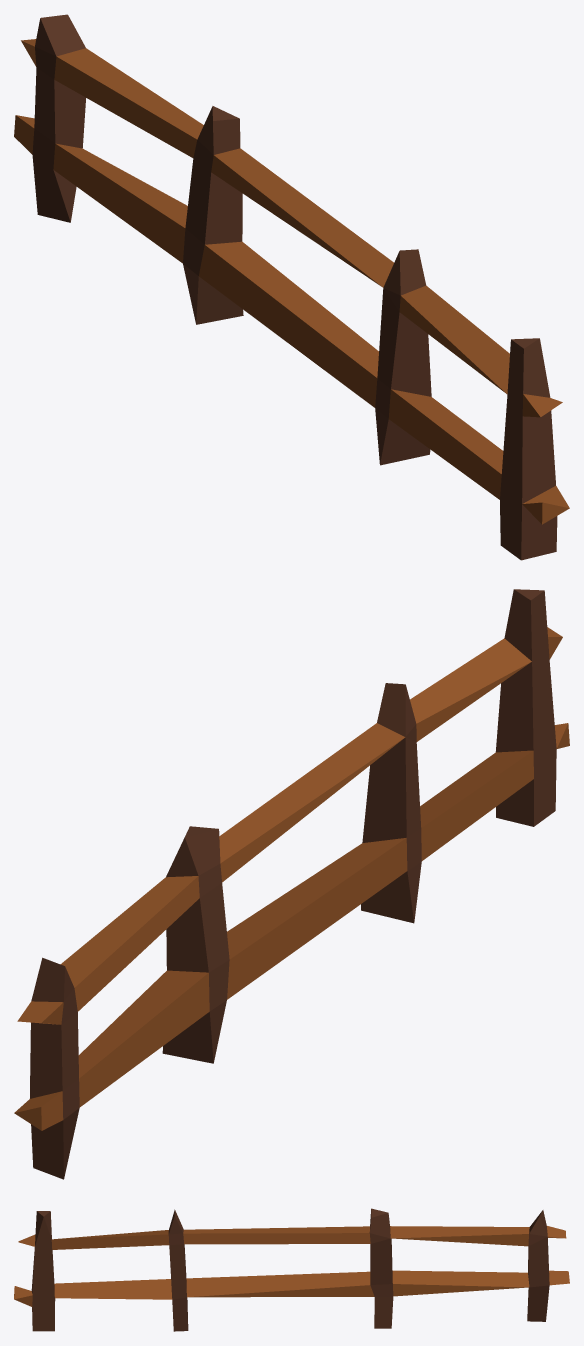
Rendered from cit1.fbx.
3 views of the same model, one above another, from view 1: azimuth 30°, elevation 25°; view 2: azimuth 150°, elevation 25°; view 3: azimuth 270°, elevation 25° (orthographic). The views are drawn at different scales.
Parts seen in each view (by area): view 1: Cube; view 2: Cube; view 3: Cube.
Part boxes in pixels (bbox=[...]): Cube: bbox=[14, 14, 569, 560]; Cube: bbox=[14, 589, 569, 1179]; Cube: bbox=[14, 1208, 569, 1331].
Size of the model in its own units: 261 by 1014 by 4353.
